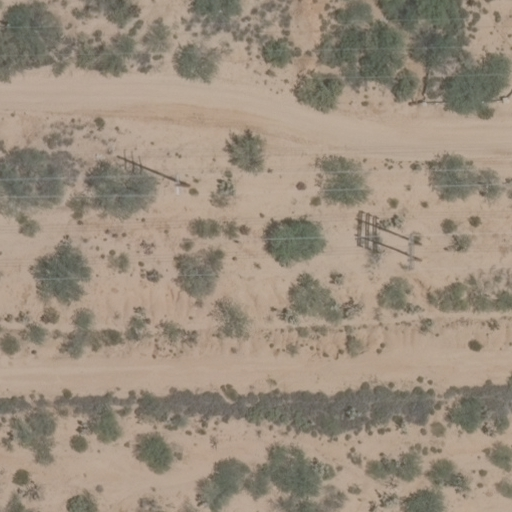DT: (111, 153, 186, 188)
TT: (350, 212, 420, 261)
